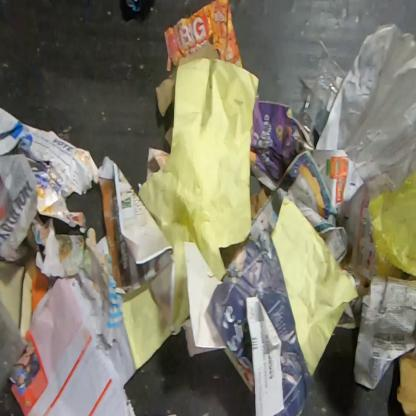cardboard: (0, 260, 33, 337)
rigid_plastic: (304, 68, 340, 146)
soft_plastic: (315, 22, 416, 202), (0, 301, 29, 416)
